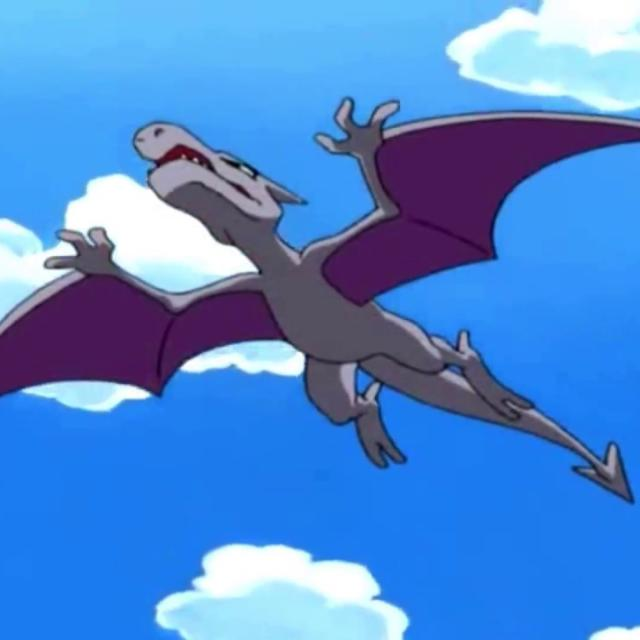Aerodactyl: (94, 114, 509, 390)
